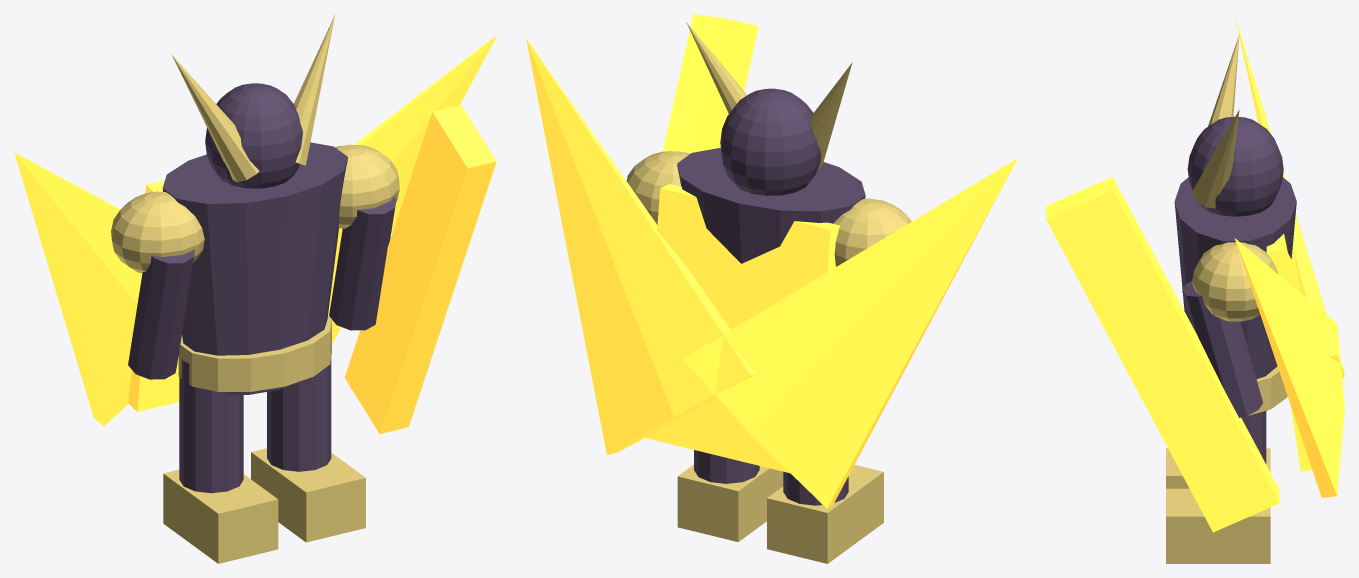
The model's file is boss_sovereign.glb.
3 renders of one model, left to right at view 1: azimuth 30°, elevation 25°; view 2: azimuth 150°, elevation 25°; view 3: azimuth 270°, elevation 25°, orthographic. The views are drawn at different scales.
Parts seen in each view (by area): view 1: Cone, Cube.003, Cone.001, Cube, Cube.001, Cylinder, Sphere.002, Cylinder.003, Cylinder.004, Cylinder.002, Cone.003, Cylinder.001 (+5 smaller); view 2: Cone.001, Cone.003, Cube.002, Cone, Sphere.002, Cube.003, Cube, Cube.001, Sphere, Sphere.001, Cylinder.001, Cone.002 (+2 smaller); view 3: Cube.003, Cone.003, Cone, Sphere.002, Cube.001, Cylinder.004, Sphere.001, Cone.001, Cone.004, Cube.002, Cone.002, Cylinder.002 (+2 smaller).
Boxes of the visible parts, x1=… form: Cone: x1=162, y1=142, x2=347, y2=395; Cube.003: x1=344, y1=105, x2=496, y2=433; Cone.001: x1=14, y1=152, x2=142, y2=425; Cube: x1=163, y1=469, x2=278, y2=563; Cube.001: x1=251, y1=448, x2=365, y2=542; Cylinder: x1=179, y1=358, x2=243, y2=493; Sphere.002: x1=205, y1=83, x2=302, y2=188; Cylinder.003: x1=128, y1=249, x2=194, y2=379; Cylinder.004: x1=329, y1=196, x2=396, y2=330; Cylinder.002: x1=178, y1=316, x2=331, y2=391; Cone.003: x1=328, y1=35, x2=497, y2=343; Cylinder.001: x1=267, y1=358, x2=331, y2=471; Cone.001: x1=683, y1=158, x2=1017, y2=508; Cone.003: x1=526, y1=38, x2=756, y2=454; Cube.002: x1=645, y1=184, x2=839, y2=473; Cone: x1=677, y1=147, x2=865, y2=263; Sphere.002: x1=720, y1=88, x2=821, y2=195; Cube.003: x1=663, y1=14, x2=758, y2=153; Cube: x1=767, y1=465, x2=883, y2=563; Cube.001: x1=677, y1=464, x2=783, y2=541; Sphere: x1=833, y1=198, x2=911, y2=266; Sphere.001: x1=626, y1=151, x2=689, y2=224; Cylinder.001: x1=694, y1=450, x2=759, y2=483; Cone.002: x1=810, y1=62, x2=852, y2=169; Cube.003: x1=1046, y1=177, x2=1279, y2=532; Cone.003: x1=1234, y1=238, x2=1344, y2=497; Cone: x1=1174, y1=177, x2=1296, y2=410; Sphere.002: x1=1187, y1=116, x2=1283, y2=216; Cube.001: x1=1166, y1=488, x2=1270, y2=563; Cylinder.004: x1=1182, y1=281, x2=1262, y2=417; Sphere.001: x1=1192, y1=242, x2=1277, y2=321; Cone.001: x1=1235, y1=16, x2=1344, y2=380; Cone.004: x1=1192, y1=109, x2=1239, y2=208; Cube.002: x1=1266, y1=172, x2=1312, y2=471; Cone.002: x1=1208, y1=34, x2=1239, y2=126; Cylinder.002: x1=1248, y1=366, x2=1287, y2=415.
Size of the model in its own units: 4 by 3.82 by 2.26.
